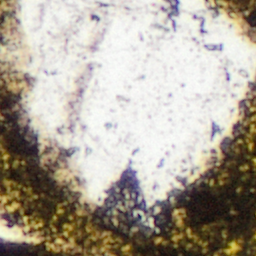cement_matrix: (0, 72, 255, 255), (220, 0, 255, 34), (165, 0, 178, 17), (51, 239, 70, 248), (0, 13, 8, 29), (229, 244, 236, 251), (0, 31, 1, 40), (0, 0, 4, 2)
gravel_crushed_stones: (0, 0, 255, 226), (0, 197, 41, 243), (52, 240, 69, 247), (230, 245, 235, 250)
